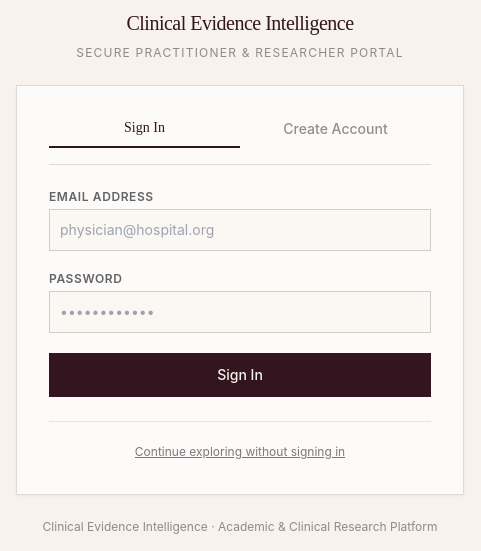
it: LoginPage Component › switches to create account mode when clicked
This screenshot has width=481, height=551.
Click the button "Create Account" at (336, 133), box [240, 118, 431, 148]
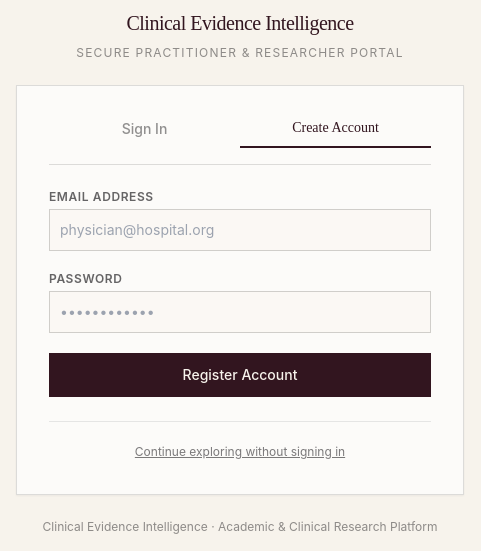
Check: the button "Register Account" is shown, box [49, 353, 431, 397]
